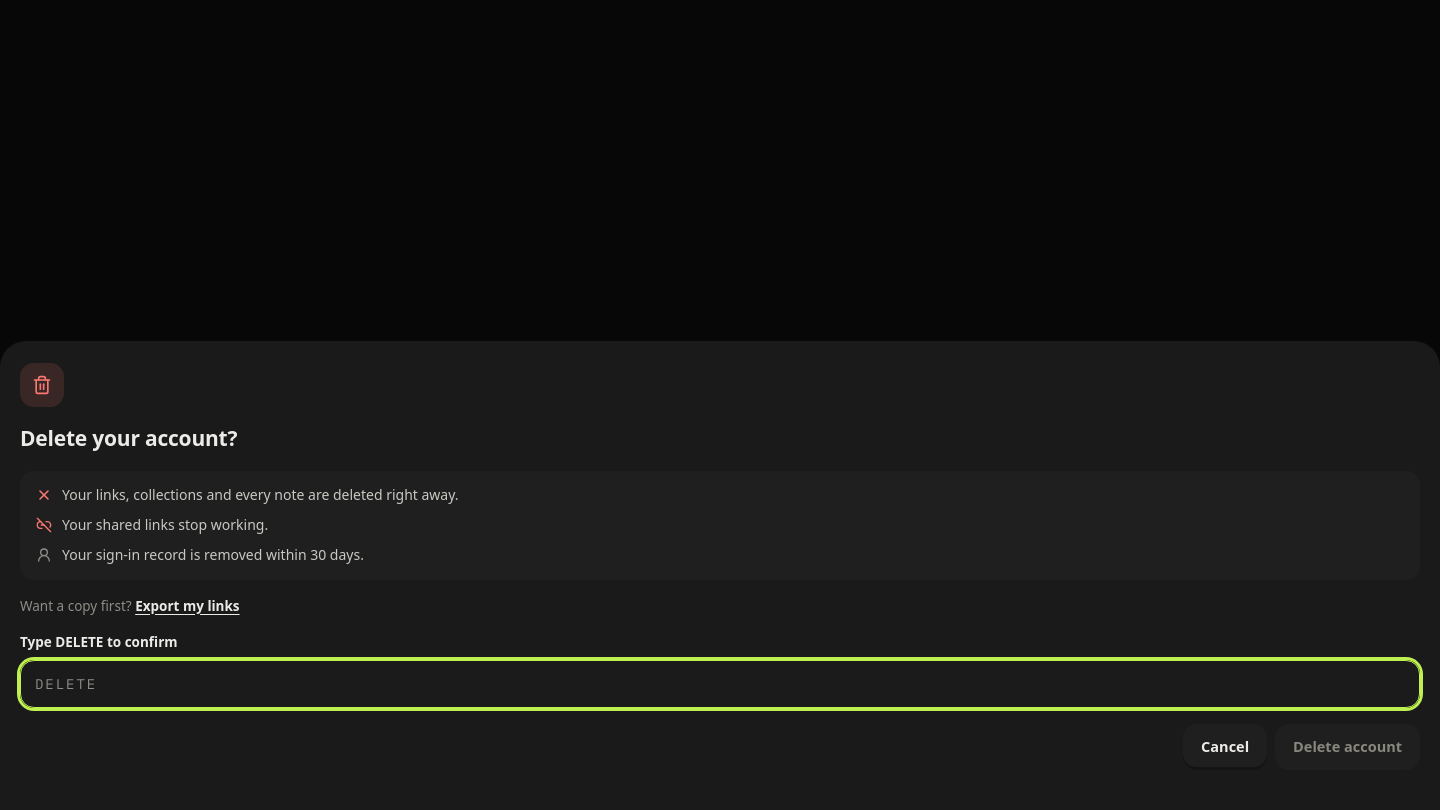
DeleteAccountDialog › uppercases what is typed, so delete counts
Step 1. Type "delete" into the field labelled "Type DELETE to confirm" → (720, 684), box [20,660,1420,708]
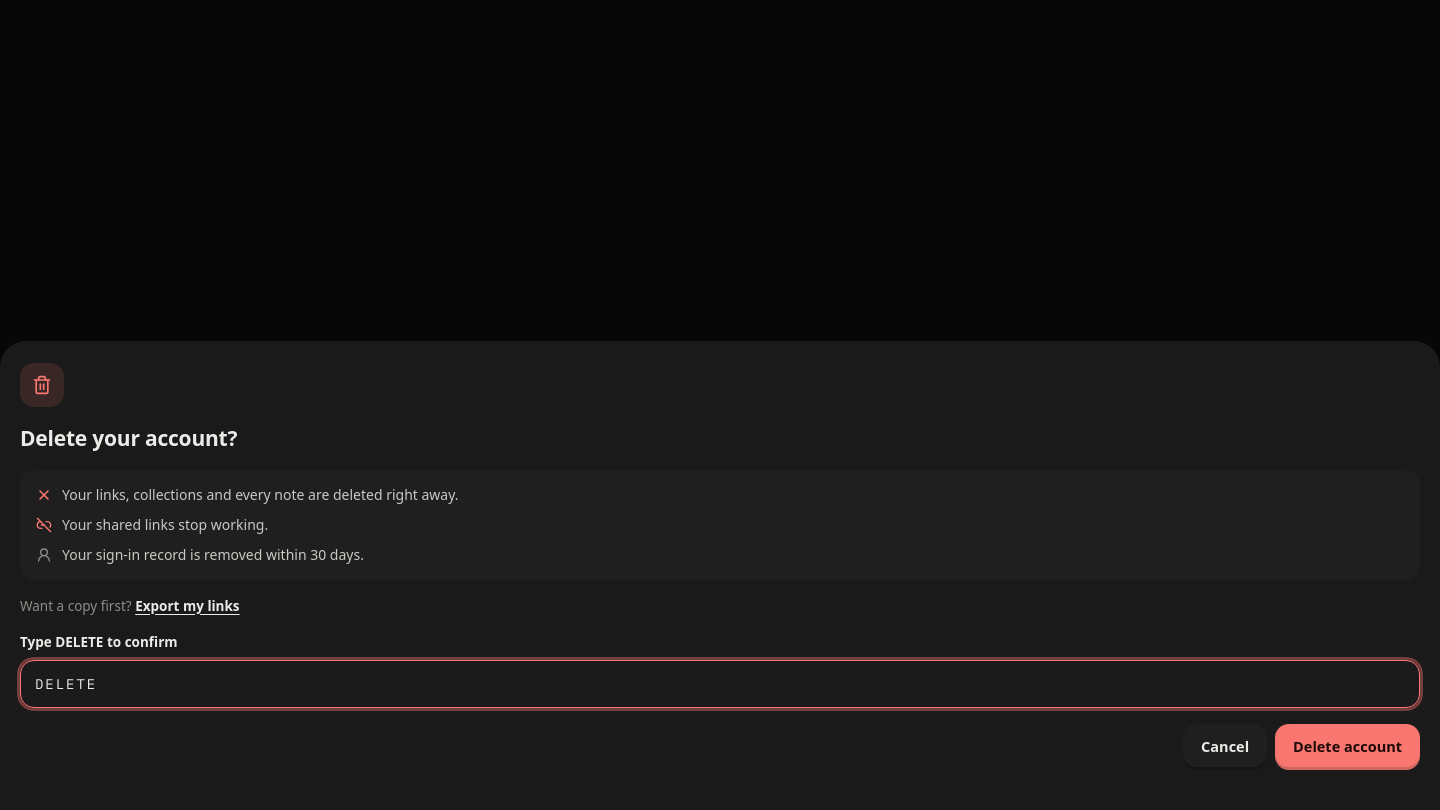
Now the button "Delete account" is enabled, box [1275,724,1420,770]
